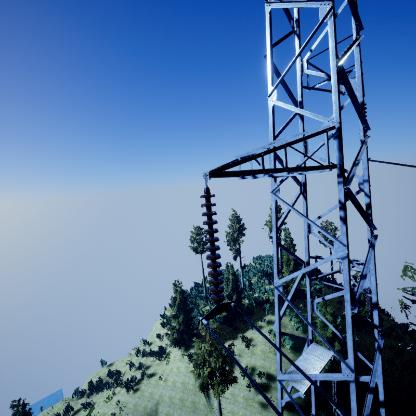insulator: (198, 191, 227, 303)
